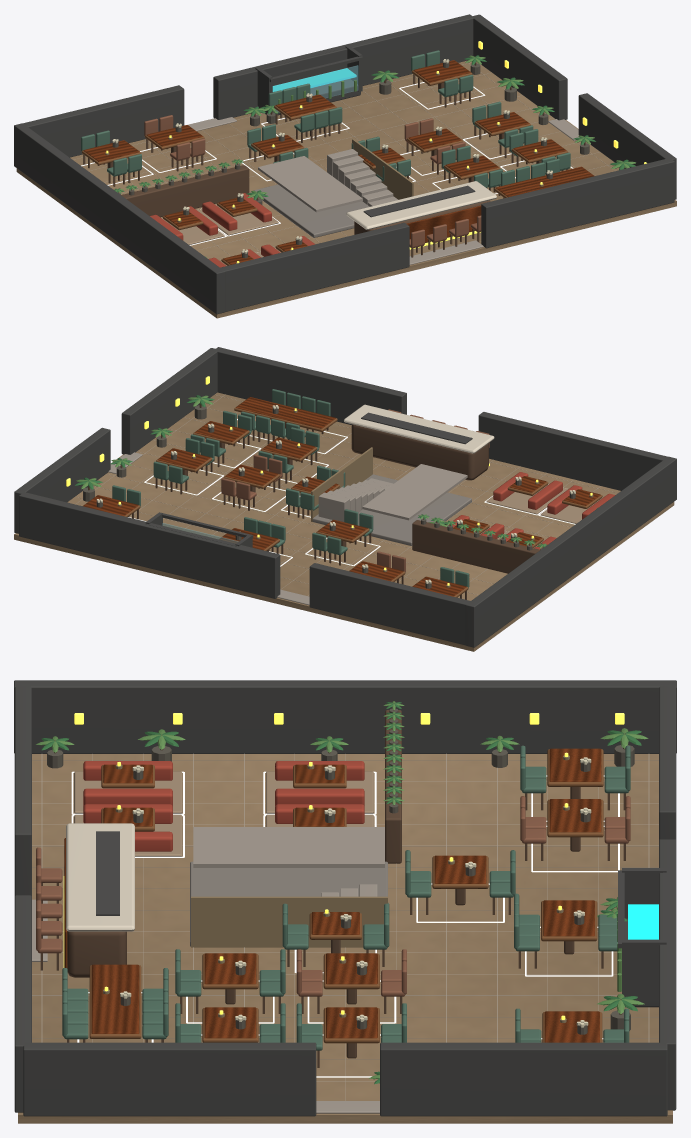
The model's file is tea-amo-floor.glb.
3 renders of one model, top to bottom at view 1: azimuth 30°, elevation 25°; view 2: azimuth 150°, elevation 25°; view 3: azimuth 270°, elevation 25°, orthographic. The views are drawn at different scales.
Parts seen in each view (by area): view 1: BATCH_ROOM_WALL_CHARCOAL, FLOOR, BATCH_ROOM_STAIRS_TOP, BATCH_ROOM_WOOD_DARK, STAIRS_CORE, BAR_COUNTER, BATCH_ROOM_FLOOR_TILE_LINE, BATCH_ROOM_PLANT_LIGHT, BATCH_TABLE_T9_CHAIR_GREEN, AQUARIUM_GLASS, BATCH_ROOM_POT, STAIRS_RAIL (+28 smaller); view 2: BATCH_ROOM_WALL_CHARCOAL, FLOOR, BATCH_ROOM_WOOD_DARK, BATCH_ROOM_STAIRS_TOP, BAR_COUNTER, STAIRS_CORE, BATCH_ROOM_FLOOR_TILE_LINE, BATCH_TABLE_T1_CHAIR_GREEN, SURFACE_T1, STAIRS_RAIL, BATCH_TABLE_T8_CHAIR_GREEN, BATCH_TABLE_T4_CHAIR_GREEN (+21 smaller); view 3: BATCH_ROOM_WALL_CHARCOAL, FLOOR, BATCH_ROOM_STAIRS_TOP, STAIRS_RAIL, BATCH_ROOM_FLOOR_TILE_LINE, BAR_COUNTER, STAIRS_CORE, BATCH_ROOM_WOOD_DARK, SURFACE_T1, BATCH_TABLE_T1_CHAIR_GREEN, BATCH_ROOM_PLANT_LIGHT, BATCH_ROOM_PLANT (+36 smaller).
Boxes of the visible parts, left/top/right/bottom form: BATCH_ROOM_WALL_CHARCOAL: left=14, top=14, right=676, bottom=314; FLOOR: left=16, top=60, right=676, bottom=318; BATCH_ROOM_STAIRS_TOP: left=188, top=117, right=579, bottom=264; BATCH_ROOM_WOOD_DARK: left=118, top=58, right=624, bottom=257; STAIRS_CORE: left=253, top=184, right=369, bottom=237; BAR_COUNTER: left=346, top=181, right=496, bottom=229; BATCH_ROOM_FLOOR_TILE_LINE: left=73, top=61, right=614, bottom=260; BATCH_ROOM_PLANT_LIGHT: left=115, top=55, right=635, bottom=257; BATCH_TABLE_T9_CHAIR_GREEN: left=268, top=83, right=342, bottom=132; AQUARIUM_GLASS: left=272, top=65, right=358, bottom=98; BATCH_ROOM_POT: left=118, top=63, right=589, bottom=204; STAIRS_RAIL: left=352, top=139, right=413, bottom=199; BATCH_ROOM_WALL_CHARCOAL: left=14, top=347, right=676, bottom=647; FLOOR: left=14, top=392, right=674, bottom=651; BATCH_ROOM_WOOD_DARK: left=88, top=398, right=542, bottom=573; BATCH_ROOM_STAIRS_TOP: left=108, top=452, right=467, bottom=605; BAR_COUNTER: left=344, top=404, right=494, bottom=453; STAIRS_CORE: left=312, top=474, right=471, bottom=545; BATCH_ROOM_FLOOR_TILE_LINE: left=75, top=394, right=617, bottom=596; BATCH_TABLE_T1_CHAIR_GREEN: left=241, top=389, right=330, bottom=439; SURFACE_T1: left=236, top=397, right=335, bottom=428; STAIRS_RAIL: left=311, top=447, right=372, bottom=521; BATCH_TABLE_T8_CHAIR_GREEN: left=312, top=509, right=373, bottom=555; BATCH_TABLE_T4_CHAIR_GREEN: left=153, top=438, right=214, bottom=483; BATCH_ROOM_WALL_CHARCOAL: left=14, top=680, right=676, bottom=1116; FLOOR: left=18, top=754, right=672, bottom=1123; BATCH_ROOM_STAIRS_TOP: left=32, top=827, right=384, bottom=1113; STAIRS_RAIL: left=191, top=896, right=387, bottom=947; BATCH_ROOM_FLOOR_TILE_LINE: left=32, top=753, right=658, bottom=1100; BAR_COUNTER: left=66, top=823, right=134, bottom=931; STAIRS_CORE: left=190, top=861, right=387, bottom=946; BATCH_ROOM_WOOD_DARK: left=40, top=703, right=625, bottom=1014; SURFACE_T1: left=91, top=964, right=139, bottom=1033; BATCH_TABLE_T1_CHAIR_GREEN: left=62, top=968, right=168, bottom=1039; BATCH_ROOM_PLANT_LIGHT: left=36, top=701, right=648, bottom=1079; BATCH_ROOM_PLANT: left=41, top=702, right=641, bottom=1084.
Size of what is drawn, in the model's own units: 16.42 by 1.61 by 12.45.
Materials: 22 (2 with a texture image).
